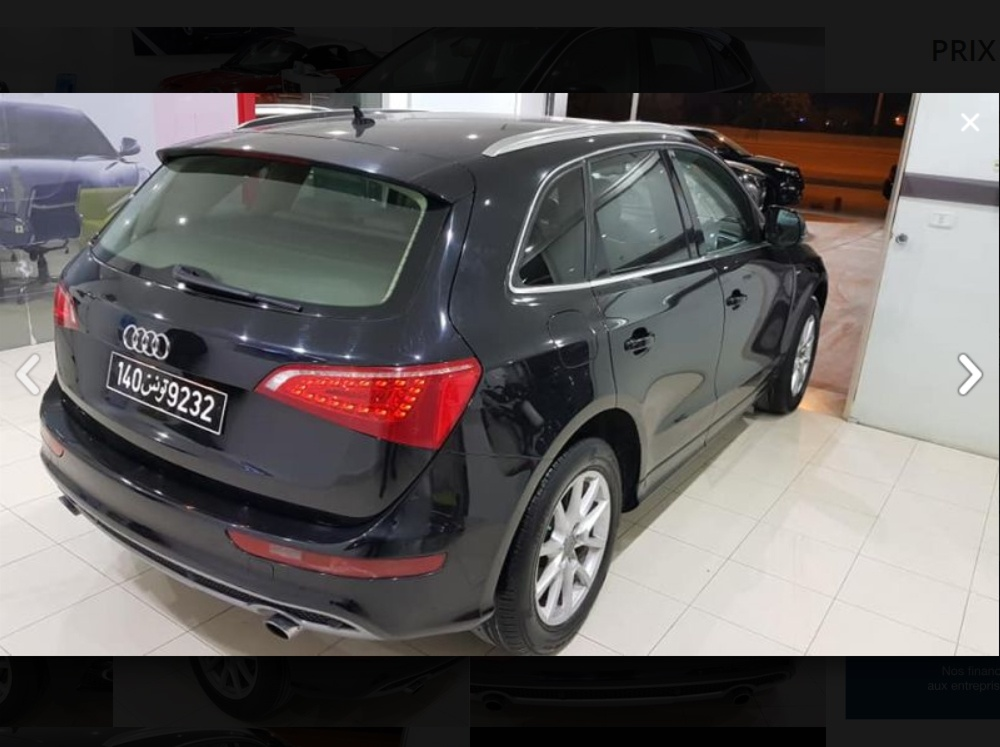LP: (102, 351, 232, 441)
